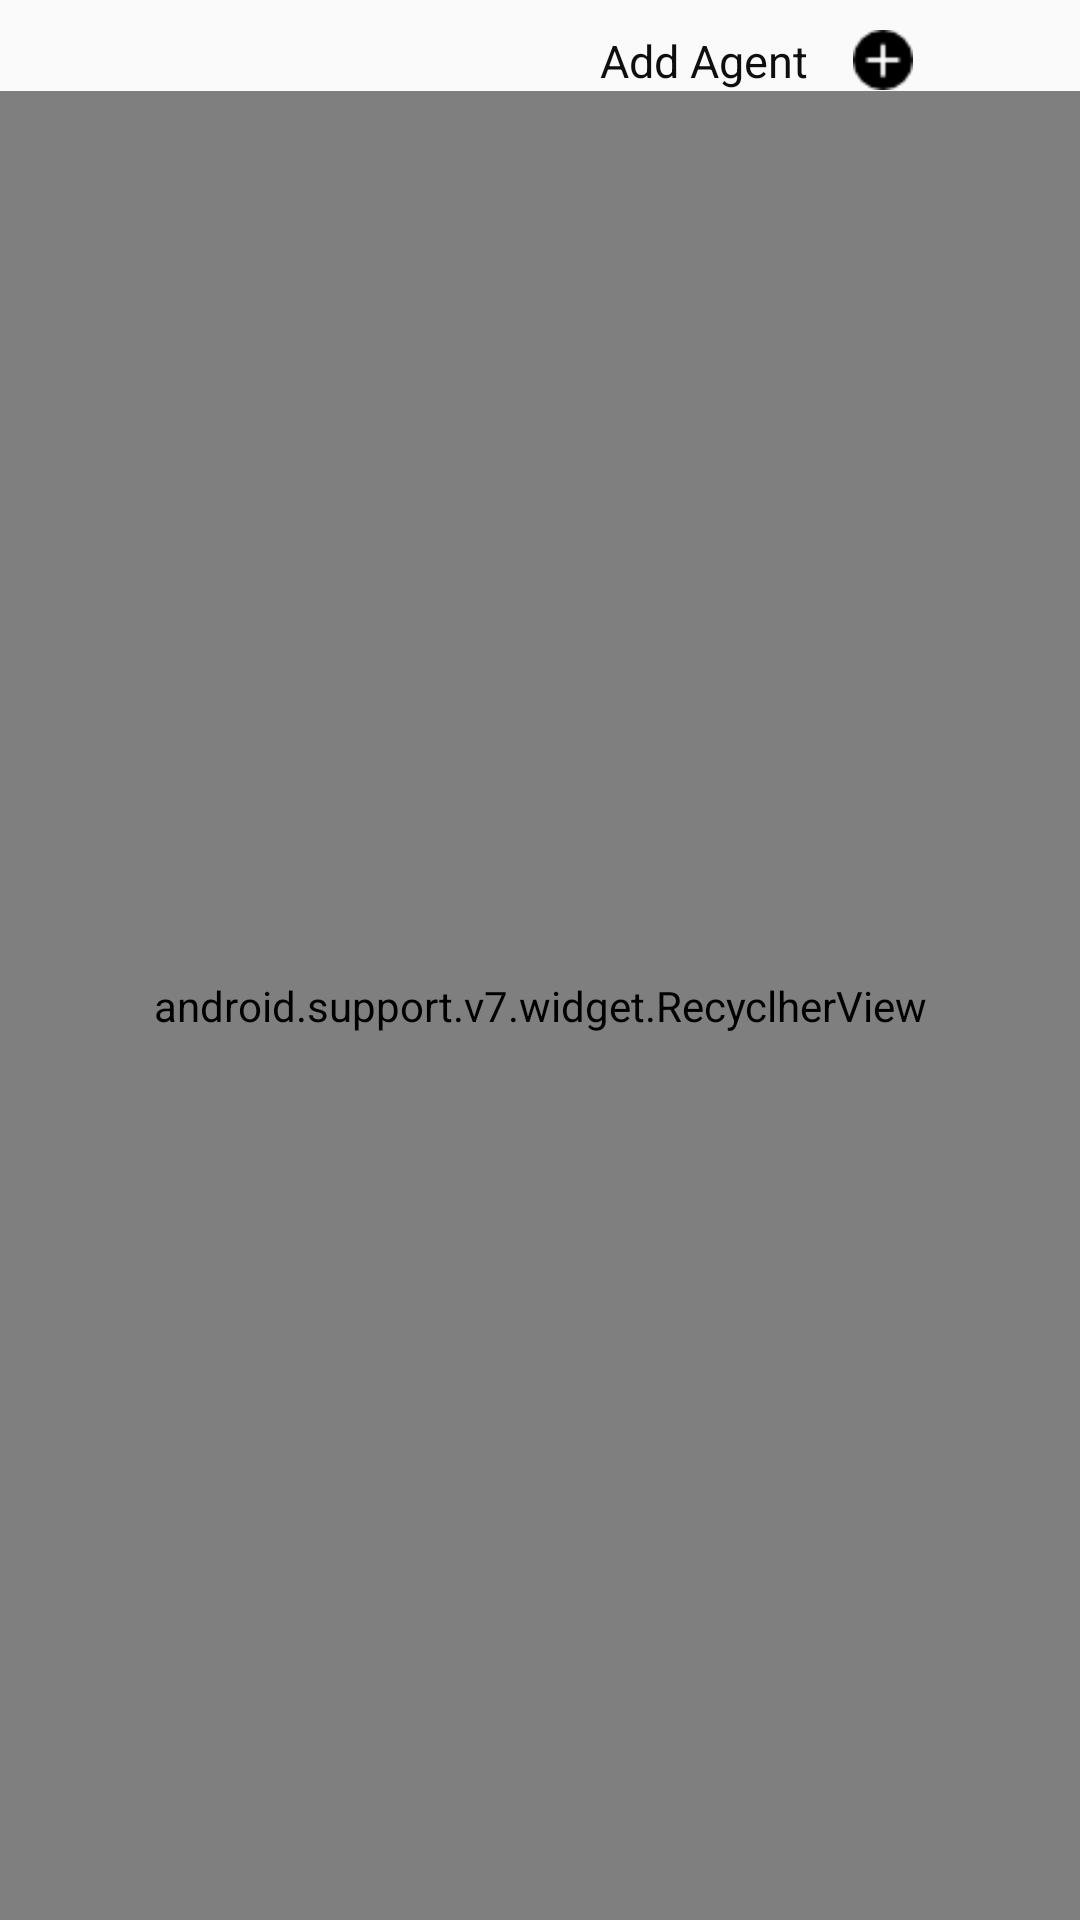

Named icons in this screenshot (1080px x 1920px) and their bounding boxes, (x1, y1, x2, y2):
plus: (853, 30, 913, 90)
